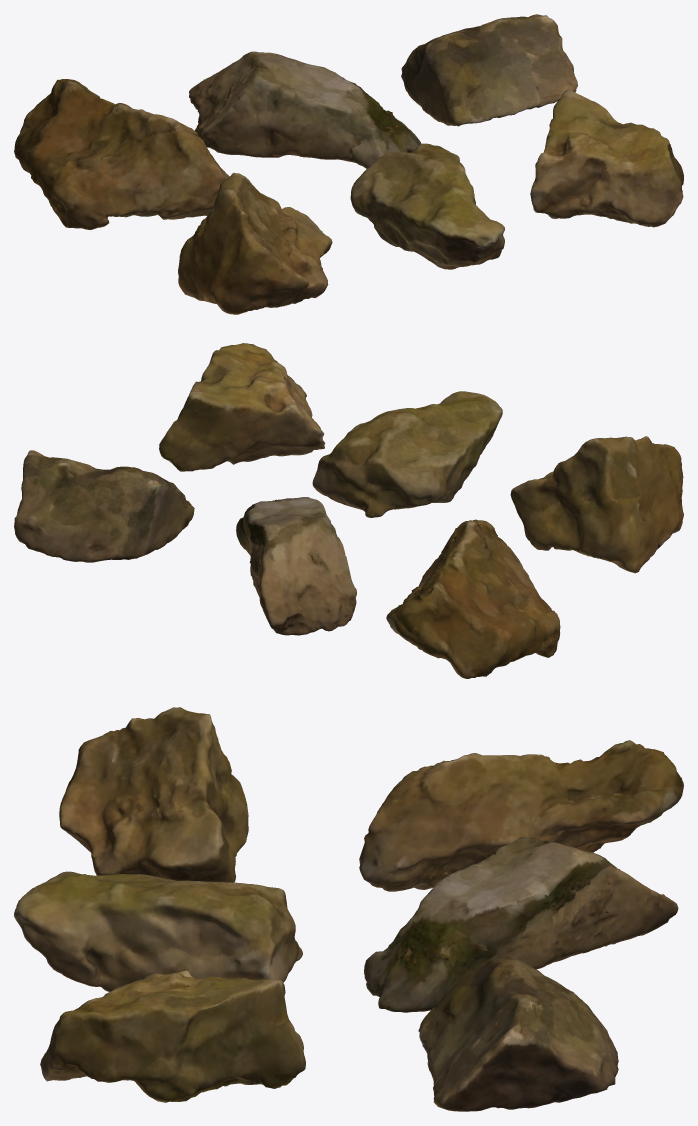
File: rock_moss_set_01.gltf
3 renders of one model, top to bottom at view 1: azimuth 30°, elevation 25°; view 2: azimuth 150°, elevation 25°; view 3: azimuth 270°, elevation 25°, orthographic. The views are drawn at different scales.
Parts seen in each view (by area): view 1: rock_moss_set_01_rock01, rock_moss_set_01_rock02, rock_moss_set_01_rock06, rock_moss_set_01_rock04, rock_moss_set_01_rock03, rock_moss_set_01_rock05; view 2: rock_moss_set_01_rock04, rock_moss_set_01_rock01, rock_moss_set_01_rock05, rock_moss_set_01_rock03, rock_moss_set_01_rock06, rock_moss_set_01_rock02; view 3: rock_moss_set_01_rock01, rock_moss_set_01_rock02, rock_moss_set_01_rock05, rock_moss_set_01_rock04, rock_moss_set_01_rock06, rock_moss_set_01_rock03.
Boxes of the visible parts, x1,y1,x2,y2 form: rock_moss_set_01_rock01: (14,79,229,229); rock_moss_set_01_rock02: (189,51,421,168); rock_moss_set_01_rock06: (530,89,683,227); rock_moss_set_01_rock04: (178,173,332,314); rock_moss_set_01_rock03: (401,14,577,126); rock_moss_set_01_rock05: (350,143,504,269); rock_moss_set_01_rock04: (510,436,683,573); rock_moss_set_01_rock01: (386,519,560,678); rock_moss_set_01_rock05: (312,391,502,517); rock_moss_set_01_rock03: (14,450,194,562); rock_moss_set_01_rock06: (159,343,325,471); rock_moss_set_01_rock02: (236,497,356,635); rock_moss_set_01_rock01: (359,740,683,891); rock_moss_set_01_rock02: (364,836,678,1012); rock_moss_set_01_rock05: (14,871,302,991); rock_moss_set_01_rock04: (59,707,248,882); rock_moss_set_01_rock06: (40,970,305,1102); rock_moss_set_01_rock03: (418,956,618,1111).
Size of the model in its own units: 8 by 1.77 by 6.95.
Materials: 1 (1 with a texture image).
